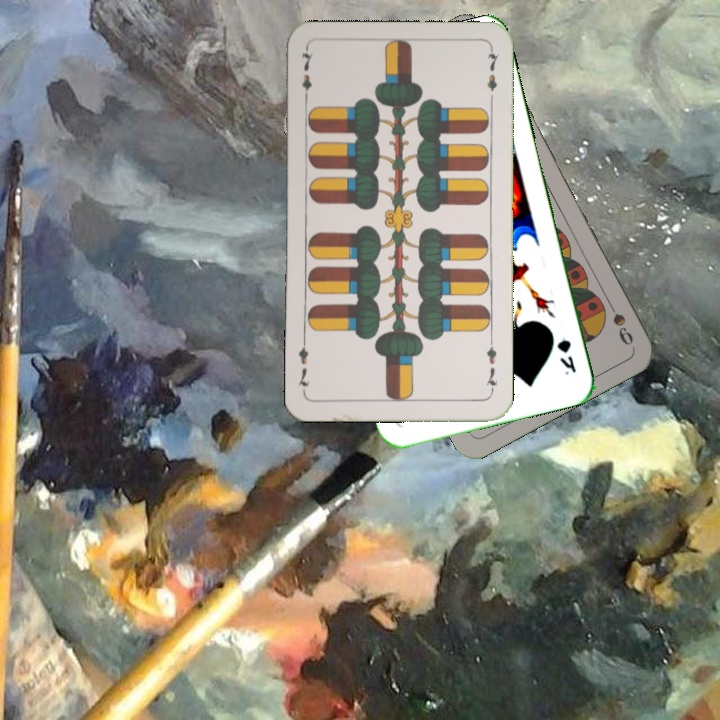E7: (482, 336, 501, 395), (297, 46, 315, 105)
GK: (553, 333, 579, 378)
S9: (601, 293, 636, 349)
